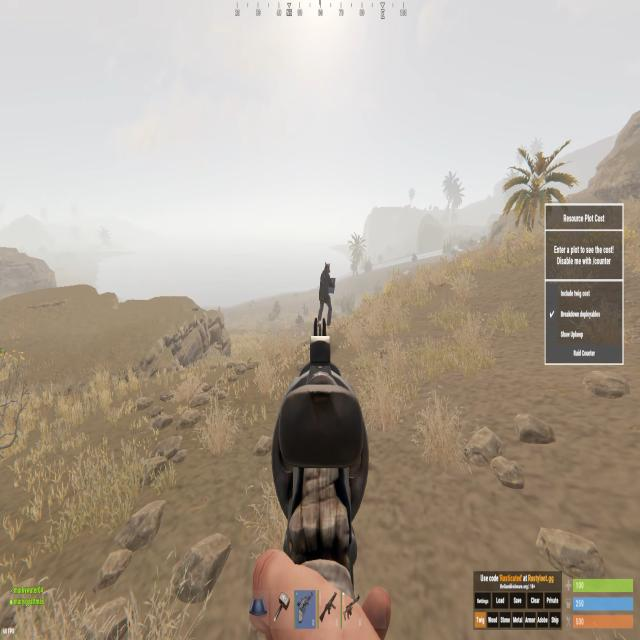Player: (318, 261, 334, 325)
